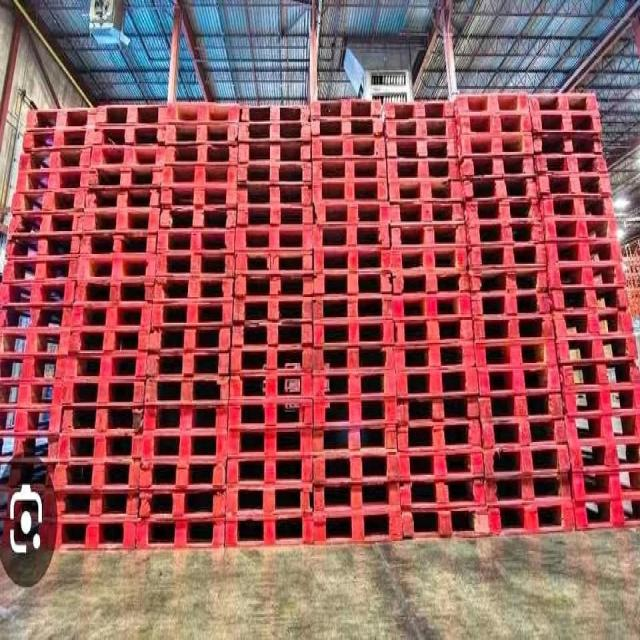non-igps: (485, 495, 579, 541), (482, 469, 576, 513), (480, 439, 572, 483), (312, 508, 404, 549), (224, 510, 315, 550), (478, 414, 572, 452), (394, 390, 482, 430), (140, 399, 230, 438), (312, 477, 402, 516), (60, 372, 149, 411), (399, 506, 492, 543), (144, 344, 231, 382), (224, 482, 314, 518), (54, 429, 146, 464), (58, 402, 146, 438), (312, 450, 400, 486), (0, 271, 79, 311), (395, 419, 485, 454), (136, 486, 228, 520), (164, 90, 244, 129), (475, 364, 564, 399), (398, 474, 489, 508), (0, 254, 81, 291), (68, 298, 156, 332), (62, 348, 150, 382), (472, 336, 560, 370), (134, 518, 227, 550), (23, 97, 100, 135), (562, 408, 639, 446), (569, 493, 640, 534), (552, 333, 640, 366), (158, 201, 240, 236), (312, 422, 398, 455), (226, 454, 314, 486), (549, 308, 637, 340), (559, 382, 639, 417), (64, 323, 154, 354), (476, 389, 566, 420), (71, 276, 158, 308), (556, 357, 640, 390), (3, 231, 84, 265), (468, 288, 554, 320), (546, 284, 632, 316), (139, 434, 230, 464), (396, 449, 487, 479), (227, 427, 315, 458), (470, 312, 558, 343), (9, 189, 89, 223), (160, 159, 240, 193), (158, 178, 240, 211), (563, 438, 640, 473), (4, 210, 88, 242), (0, 302, 76, 336), (467, 265, 550, 296), (312, 397, 399, 426), (394, 367, 481, 396), (147, 324, 233, 353), (229, 345, 315, 374), (312, 370, 398, 399), (73, 252, 162, 280), (391, 268, 474, 298), (545, 260, 628, 290), (312, 345, 397, 374), (154, 252, 238, 281), (533, 170, 614, 200), (16, 146, 94, 177), (154, 226, 237, 255), (82, 184, 162, 214), (0, 512, 52, 558), (77, 229, 162, 257), (227, 400, 314, 427), (164, 139, 242, 169), (384, 154, 462, 184), (230, 321, 316, 348), (392, 341, 478, 368), (89, 140, 169, 169), (162, 119, 242, 148), (94, 99, 171, 129), (382, 114, 459, 144), (137, 461, 229, 486), (313, 319, 395, 347), (143, 374, 231, 400), (14, 169, 92, 198), (150, 277, 237, 303), (565, 467, 640, 497), (228, 374, 314, 400), (21, 125, 98, 154), (543, 238, 625, 265), (312, 223, 391, 251), (232, 295, 316, 321), (541, 216, 621, 243), (232, 226, 315, 252), (233, 272, 316, 298), (391, 293, 474, 319), (312, 248, 393, 274), (312, 294, 393, 320), (390, 247, 471, 273), (227, 402, 314, 426), (90, 121, 170, 147), (312, 269, 392, 295), (536, 194, 616, 220), (148, 301, 234, 325), (464, 243, 550, 267), (388, 177, 466, 203), (80, 208, 164, 232), (463, 221, 547, 245), (0, 459, 59, 493), (383, 134, 460, 160), (0, 352, 71, 380), (531, 131, 607, 157), (85, 165, 167, 189), (310, 180, 392, 204), (392, 319, 477, 342), (0, 378, 67, 407), (235, 160, 314, 184), (235, 182, 314, 206), (456, 134, 535, 158), (0, 430, 63, 460), (388, 224, 469, 247), (0, 488, 58, 520), (526, 88, 600, 113), (461, 198, 545, 220), (527, 109, 604, 133), (234, 204, 314, 227), (0, 405, 68, 432), (237, 100, 313, 124), (313, 202, 392, 225), (234, 252, 316, 274), (236, 141, 314, 164), (382, 98, 456, 122), (310, 136, 387, 159), (311, 157, 388, 180), (462, 177, 539, 200), (387, 200, 467, 222), (454, 114, 534, 136), (530, 153, 610, 175), (309, 95, 384, 118), (452, 91, 530, 113), (236, 120, 313, 142), (0, 331, 75, 352), (310, 116, 384, 137), (457, 156, 537, 175)
